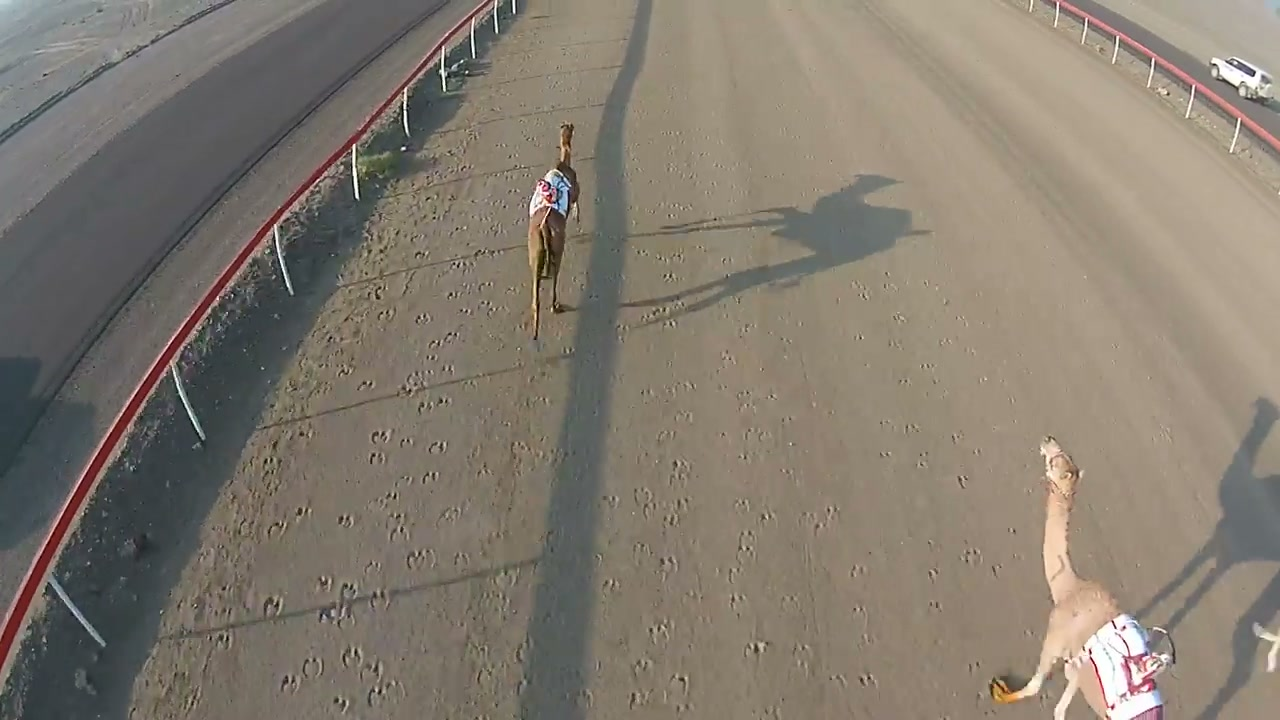animal_foot_print: (255, 218, 508, 709), (602, 318, 724, 717)
